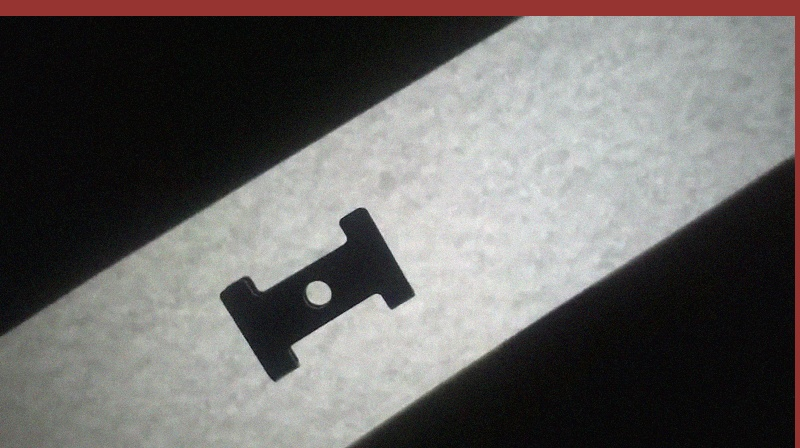O002: (216, 203, 419, 382)
